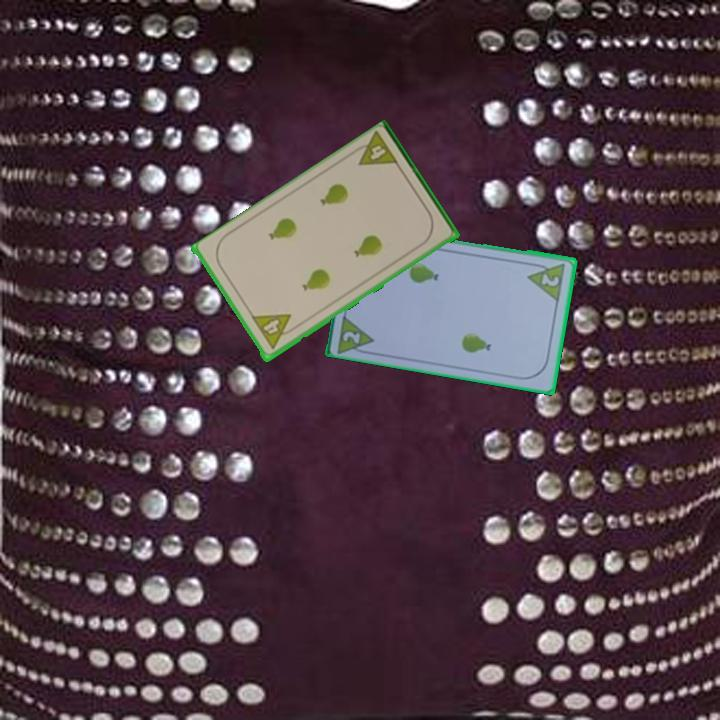2p: (525, 259, 569, 304), (339, 327, 363, 346)
4p: (248, 310, 300, 353), (347, 129, 401, 169)
